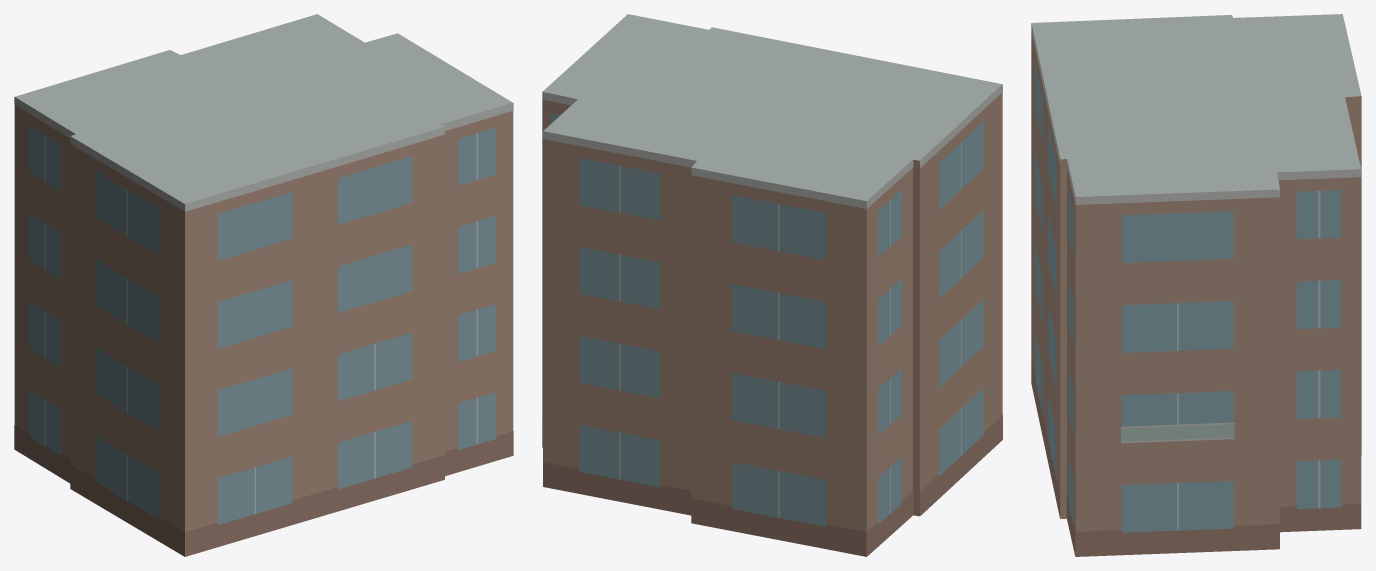
File: survey-upis-32653390.glb
3 renders of one model, left to right at view 1: azimuth 30°, elevation 25°; view 2: azimuth 150°, elevation 25°; view 3: azimuth 270°, elevation 25°, orthographic.
Visible parts, largest first — view 1: survey-upis-32653390.tmp; view 2: survey-upis-32653390.tmp; view 3: survey-upis-32653390.tmp.
Boxes of the visible parts, x1,y1,x2,y2 form: survey-upis-32653390.tmp: (14, 14, 513, 556); survey-upis-32653390.tmp: (542, 14, 1002, 556); survey-upis-32653390.tmp: (1031, 14, 1361, 556).
Size of the model in its own units: 12.18 by 11.15 by 9.29.
